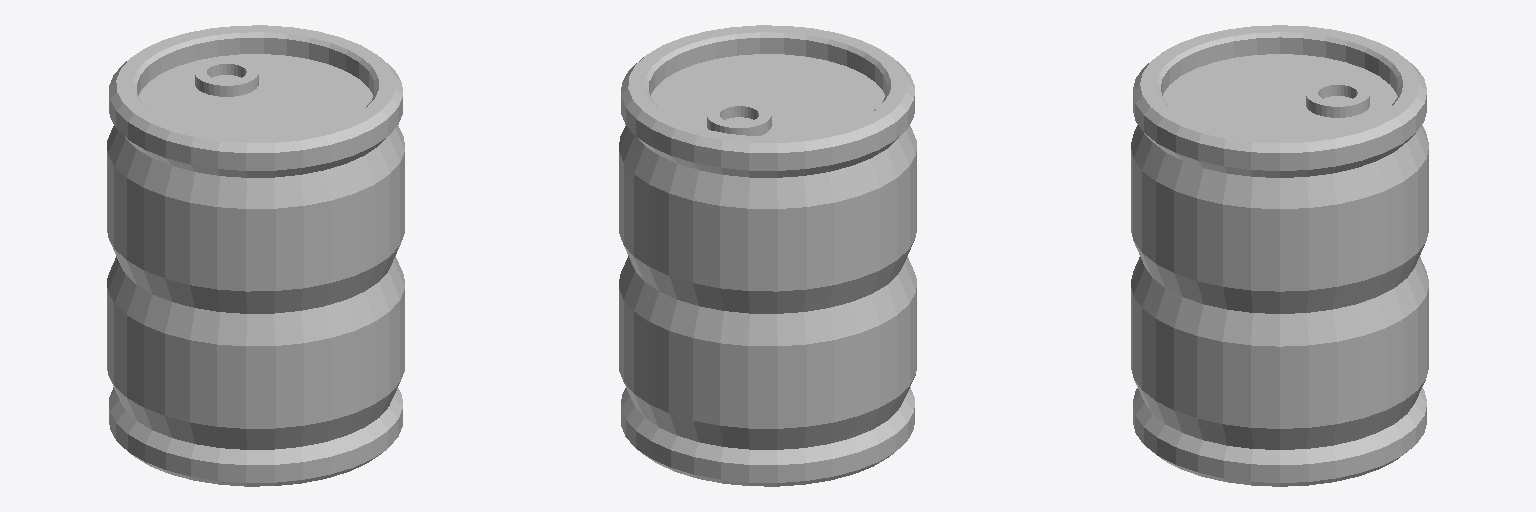
File: Oil drum.OBJ
The picture shows the model from 3 angles: view 1: azimuth 30°, elevation 25°; view 2: azimuth 150°, elevation 25°; view 3: azimuth 270°, elevation 25°; orthographic projection.
Visible parts, largest first — view 1: Group22676, Group12113, Group29545, Group17989, Group29548, Group41840, Group17991; view 2: Group22676, Group12113, Group29545, Group17989, Group29548, Group41840, Group17991; view 3: Group22676, Group12113, Group29545, Group17989, Group29548, Group41840, Group17991.
Part boxes in pixels (bbox=[...]): Group22676: bbox=[107, 25, 404, 482]; Group12113: bbox=[107, 151, 404, 428]; Group29545: bbox=[139, 54, 372, 135]; Group17989: bbox=[109, 57, 402, 486]; Group29548: bbox=[137, 38, 374, 95]; Group41840: bbox=[195, 59, 258, 96]; Group17991: bbox=[133, 32, 378, 110]; Group22676: bbox=[619, 25, 916, 482]; Group12113: bbox=[619, 151, 916, 428]; Group29545: bbox=[651, 54, 884, 135]; Group17989: bbox=[621, 57, 914, 486]; Group29548: bbox=[649, 38, 886, 95]; Group41840: bbox=[707, 101, 771, 135]; Group17991: bbox=[645, 32, 890, 110]; Group22676: bbox=[1131, 25, 1428, 482]; Group12113: bbox=[1131, 150, 1428, 428]; Group29545: bbox=[1162, 54, 1397, 136]; Group17989: bbox=[1133, 63, 1426, 486]; Group29548: bbox=[1161, 37, 1398, 95]; Group41840: bbox=[1306, 80, 1369, 117]; Group17991: bbox=[1157, 32, 1402, 105].
Bounding box in the file's own units: 50.46 × 63.92 × 50.46.